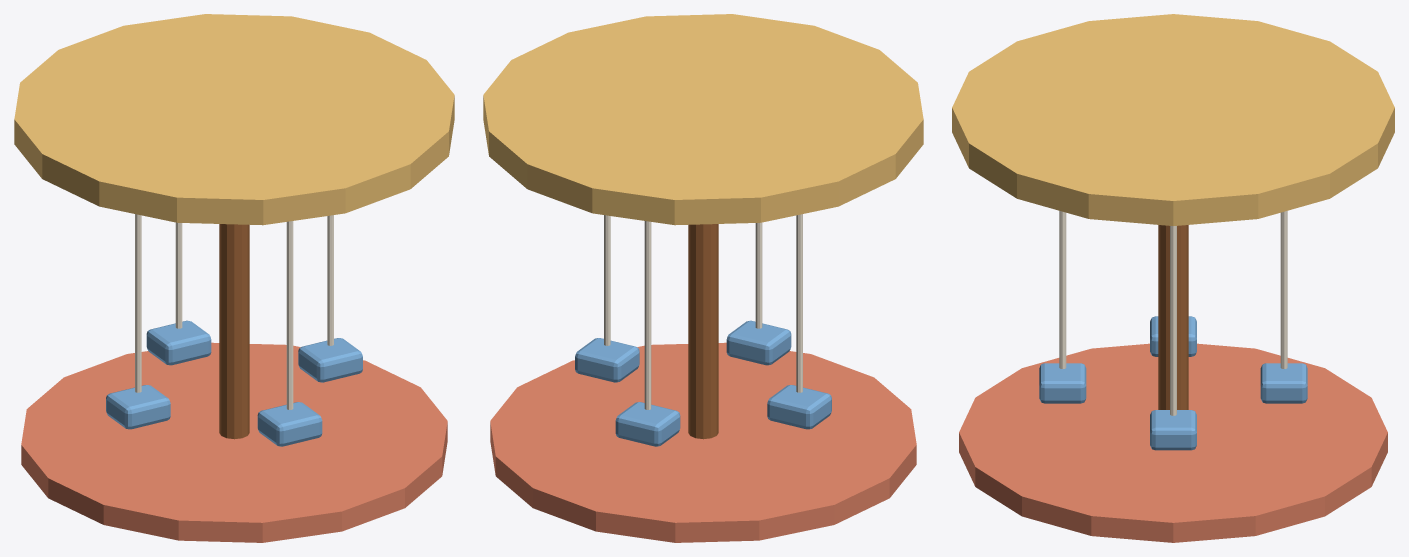
File: prop_komidi.fbx
3 renders of one model, left to right at view 1: azimuth 30°, elevation 25°; view 2: azimuth 150°, elevation 25°; view 3: azimuth 270°, elevation 25°, orthographic.
Parts seen in each view (by area): view 1: prop_komidi; view 2: prop_komidi; view 3: prop_komidi.
Boxes of the visible parts, <box> form: prop_komidi: <box>14,14,454,542</box>; prop_komidi: <box>483,14,923,542</box>; prop_komidi: <box>952,14,1394,542</box>.
Size of the model in its own units: 320 by 275 by 320.
1 material, 1 textured.
